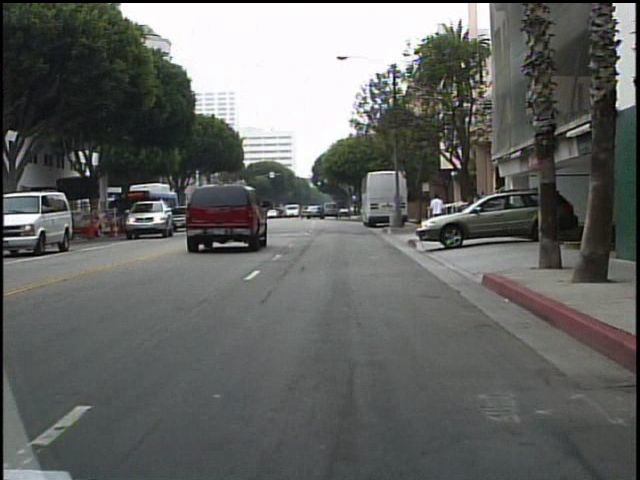person: (425, 192, 448, 238)
